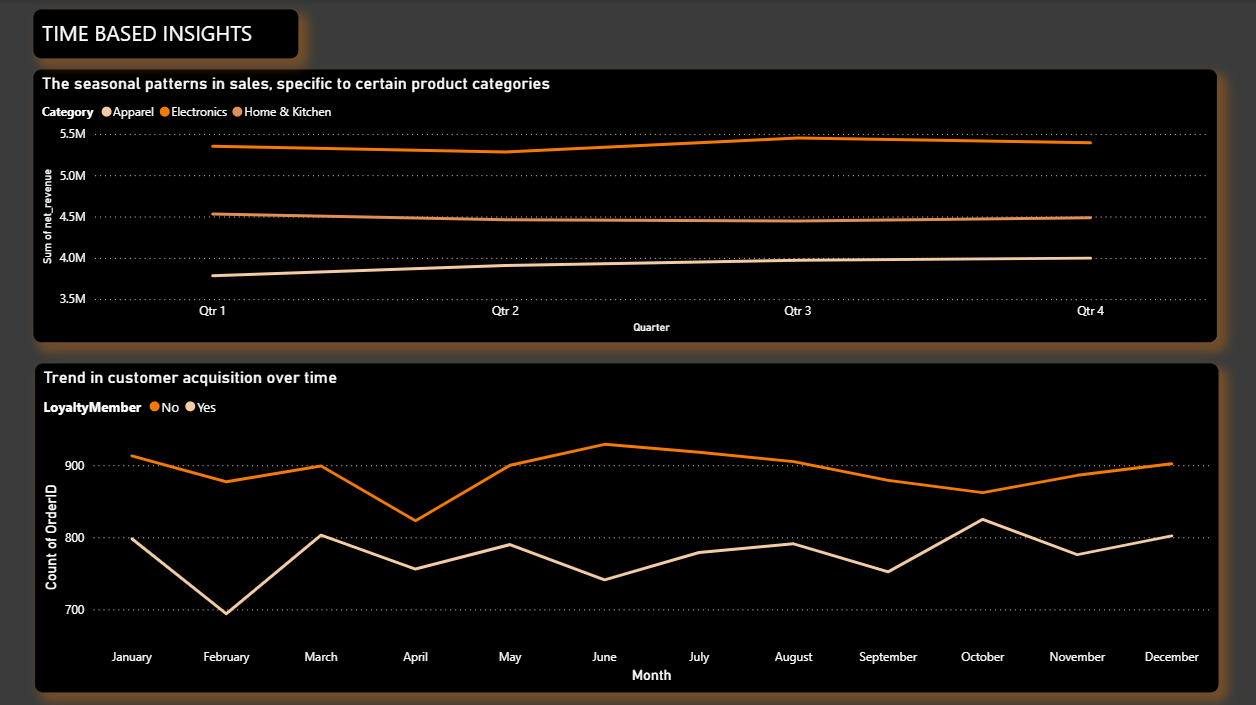

The page's visual inventory and layout, read from the dashboard file:
{"tool":"powerbi","page":{"name":"Page 6","canvas":[1280,720],"ordinal":5},"visuals":[{"type":"lineChart","title":"Trend in customer acquisition over time","fields":{"Category":["Sales.OrderDate.Variation.Date Hierarchy.Month"],"Series":["Customers.LoyaltyMember"],"Y":["CountNonNull(Sales.OrderID)"]},"box":[38.9,367.6,1195,331.9],"z":0},{"type":"lineChart","title":"The seasonal patterns in sales, specific  to certain product categories","fields":{"Category":["Sales.OrderDate.Variation.Date Hierarchy.Quarter"],"Y":["Sum(Sales.net_revenue)"],"Series":["Products.Category"]},"box":[38.2,71.6,1194.5,275.2],"z":1000},{"type":"textbox","box":[38.2,11.1,267.2,49.3],"z":2000}]}

Visuals, with their boxes in screenshot pixels (x1, y1, x2, y2), scaled from the page's 1280x720 canvas onto the 1256x705 screenshot:
"Trend in customer acquisition over time" lineChart: [x1=38, y1=360, x2=1211, y2=685]
"The seasonal patterns in sales, specific  to certain product categories" lineChart: [x1=37, y1=70, x2=1210, y2=340]
textbox: [x1=37, y1=11, x2=300, y2=59]
